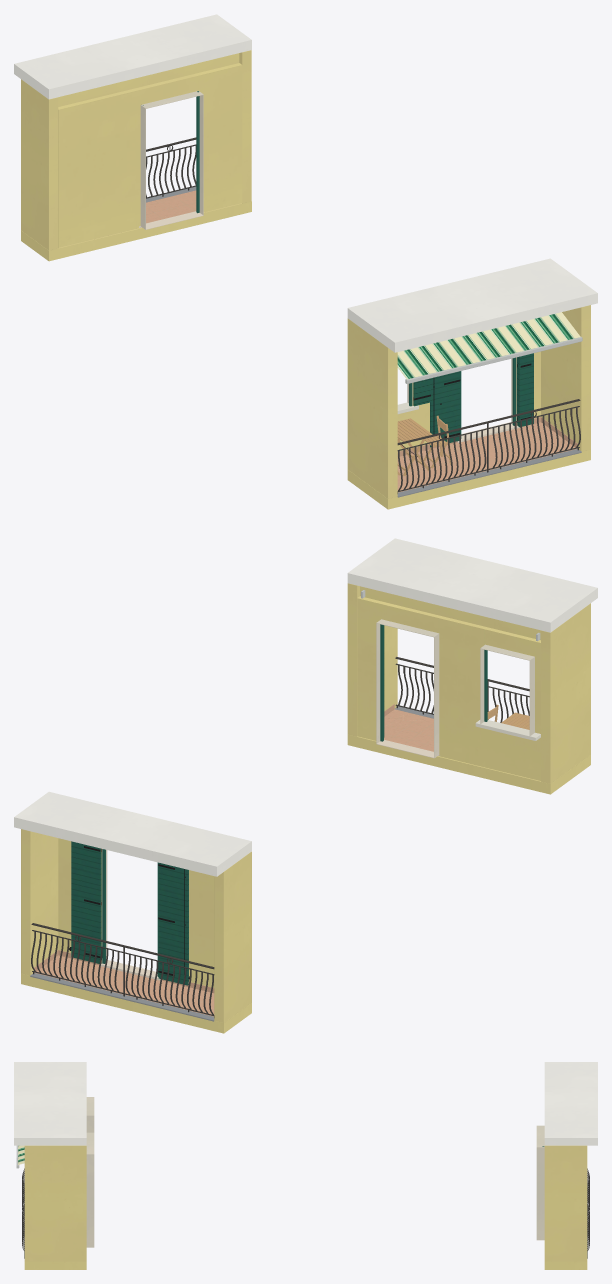
The model's file is katia-balcone.glb.
The picture shows the model from 3 angles, top to bottom: view 1: azimuth 30°, elevation 25°; view 2: azimuth 150°, elevation 25°; view 3: azimuth 270°, elevation 25°; orthographic projection. The views are drawn at different scales.
Parts seen in each view (by area): view 1: Balcone camera facciata, Balcone sporto, Balcone camera sporto, Balcone divisorio ovest, Balcone camera divisorio ovest, Balcone tenda tela, Balcone divisorio est, Balcone pavimento, Balcone ringhiera, Balcone soletta, Balcone camera soletta, Balcone camera cornice (+10 smaller); view 2: Balcone facciata, Balcone sporto, Balcone camera sporto, Balcone divisorio ovest, Balcone camera divisorio ovest, Balcone camera divisorio est, Balcone camera facciata, Balcone camera ringhiera, Balcone camera scuro portafinestra sx, Balcone camera scuro portafinestra dx, Balcone camera pavimento, Balcone divisorio est (+9 smaller); view 3: Balcone divisorio est, Balcone sporto, Balcone camera divisorio est, Balcone camera sporto, Balcone spallette, Balcone camera spallette, Balcone soletta, Balcone camera soletta.
Part boxes in pixels (<box>): Balcone camera facciata: <box>58,65,242,247</box>; Balcone sporto: <box>347,258,597,352</box>; Balcone camera sporto: <box>14,14,251,99</box>; Balcone divisorio ovest: <box>347,318,397,498</box>; Balcone camera divisorio ovest: <box>21,79,58,250</box>; Balcone tenda tela: <box>397,312,580,379</box>; Balcone divisorio est: <box>541,305,590,451</box>; Balcone pavimento: <box>397,422,576,492</box>; Balcone ringhiera: <box>397,399,580,493</box>; Balcone soletta: <box>347,449,590,509</box>; Balcone camera soletta: <box>21,201,251,261</box>; Balcone camera cornice: <box>58,53,241,110</box>; Balcone facciata: <box>357,598,540,780</box>; Balcone sporto: <box>347,538,597,632</box>; Balcone camera sporto: <box>14,791,251,876</box>; Balcone divisorio ovest: <box>541,603,590,783</box>; Balcone camera divisorio ovest: <box>214,851,251,1022</box>; Balcone camera divisorio est: <box>21,829,58,975</box>; Balcone camera facciata: <box>58,838,214,987</box>; Balcone camera ringhiera: <box>31,923,214,1017</box>; Balcone camera scuro portafinestra sx: <box>158,863,189,985</box>; Balcone camera scuro portafinestra dx: <box>69,841,101,963</box>; Balcone camera pavimento: <box>35,955,214,1016</box>; Balcone divisorio est: <box>347,583,397,736</box>; Balcone divisorio est: <box>24,1145,86,1261</box>; Balcone sporto: <box>14,1062,86,1145</box>; Balcone camera divisorio est: <box>544,1145,587,1261</box>; Balcone camera sporto: <box>544,1062,597,1145</box>; Balcone spallette: <box>86,1097,94,1247</box>; Balcone camera spallette: <box>536,1125,544,1239</box>; Balcone soletta: <box>24,1261,86,1269</box>; Balcone camera soletta: <box>544,1261,587,1269</box>.
Size of the model in its own units: 4.2 by 3.4 by 13.65.
Materials: 42 (42 with a texture image).
